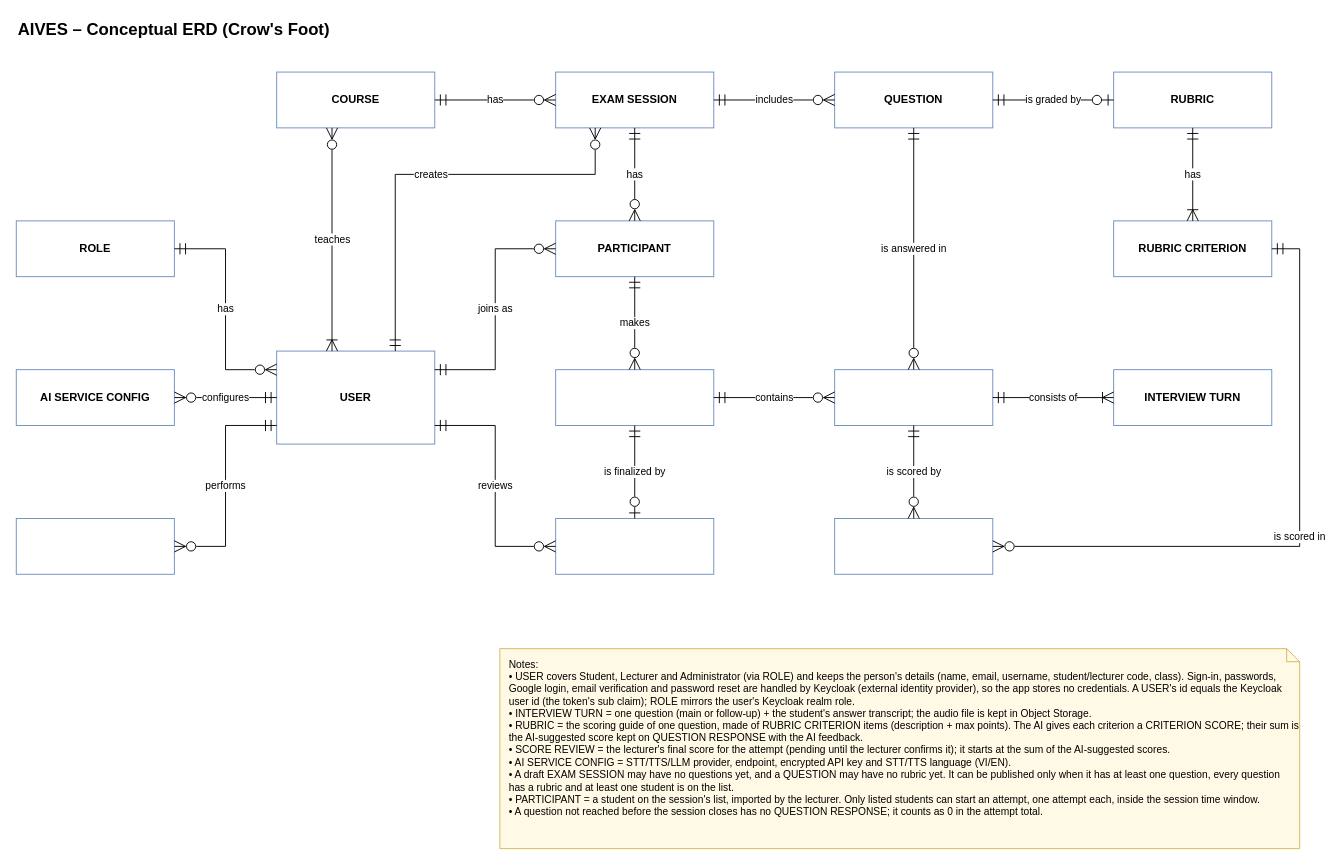
The diagram is 1342 pixels wide and 865 high, and some of its shapes have lost their labels. Each missing label, with the centre of its shape:
"AUDIT LOG" belongs at [94,546].
"CRITERION SCORE" belongs at [913,546].
"INTERVIEW ATTEMPT" belongs at [634,397].
"QUESTION RESPONSE" belongs at [913,397].
"SCORE REVIEW" belongs at [634,546].
